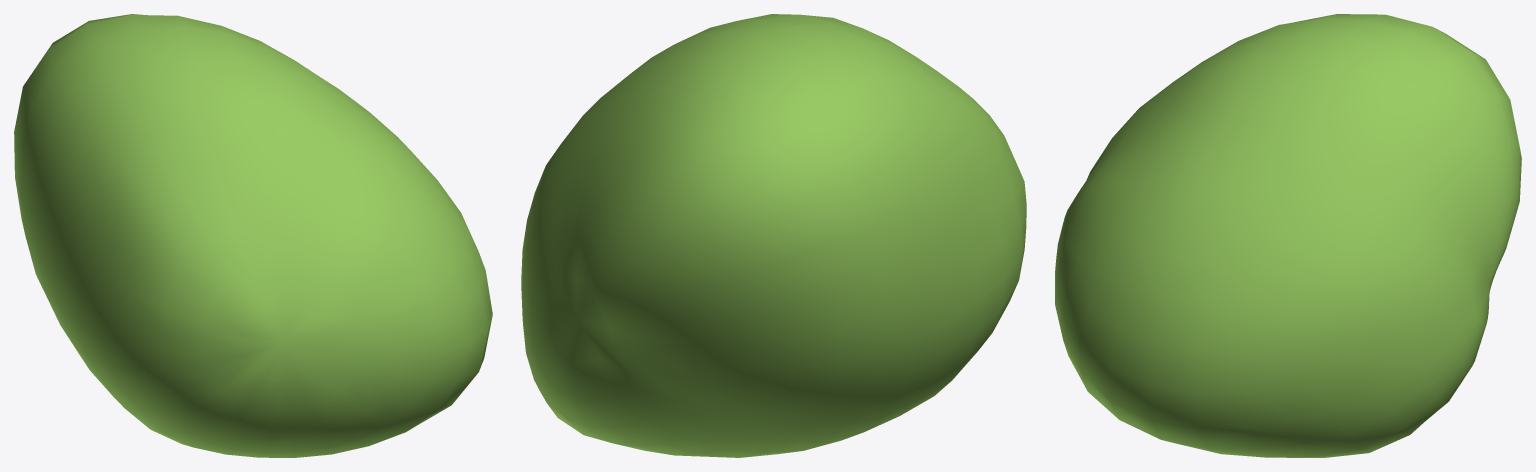
File: Boulder2.obj
The picture shows the model from 3 angles, left to right: view 1: azimuth 30°, elevation 25°; view 2: azimuth 150°, elevation 25°; view 3: azimuth 270°, elevation 25°; orthographic projection. The views are drawn at different scales.
Parts seen in each view (by area): view 1: Boulder2; view 2: Boulder2; view 3: Boulder2.
Part boxes in pixels (box(x1,y1,x2,y2)): Boulder2: box(14, 14, 492, 457); Boulder2: box(521, 14, 1026, 457); Boulder2: box(1055, 14, 1521, 457).
Size of the model in its own units: 23.24 by 22.71 by 26.13.
